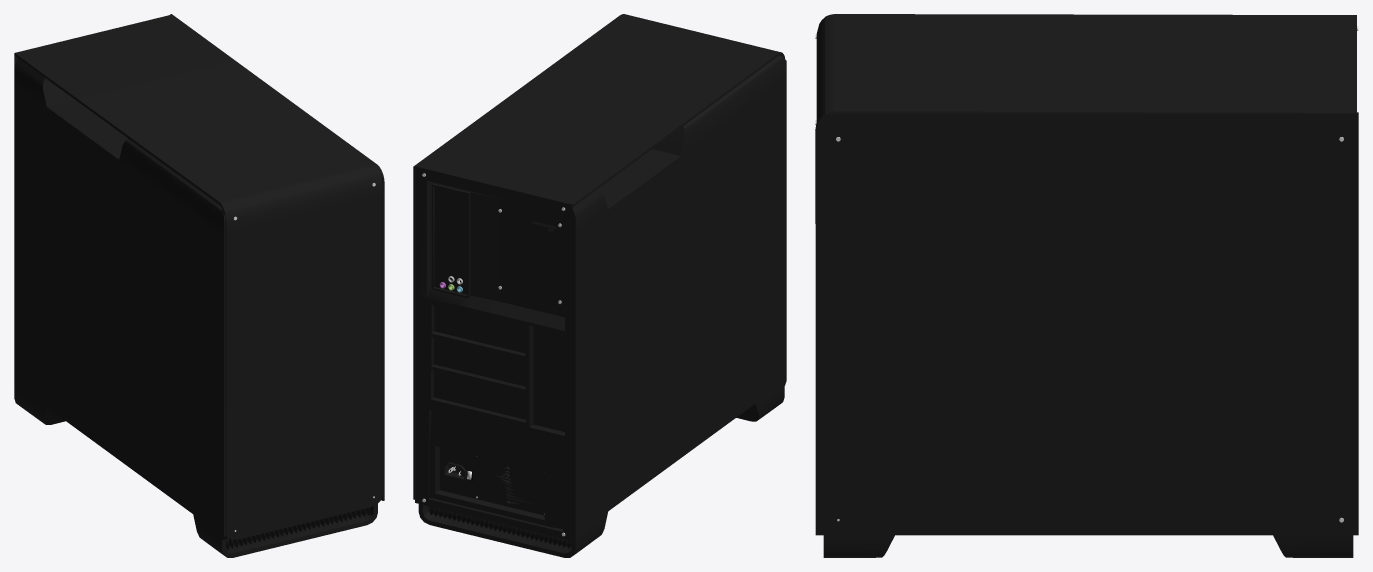
Rendered from Computer Case .fbx.
3 renders of one model, left to right at view 1: azimuth 30°, elevation 25°; view 2: azimuth 150°, elevation 25°; view 3: azimuth 270°, elevation 25°, orthographic. The views are drawn at different scales.
Visible parts, largest first — view 1: PanelFrontal.001, Interior/Lateral, Tapa lateral, Rejilla 1; view 2: Interior/Lateral, PanelFrontal.002, PanelFrontal.001, Tapa lateral, Rejilla 2; view 3: Tapa lateral, PanelFrontal.001, Interior/Lateral.
Boxes of the visible parts, x1,y1,x2,y2 form: PanelFrontal.001: [14, 15, 382, 539]; Interior/Lateral: [14, 58, 377, 557]; Tapa lateral: [170, 14, 384, 500]; Rejilla 1: [226, 507, 369, 549]; Interior/Lateral: [418, 55, 786, 557]; PanelFrontal.002: [415, 166, 572, 541]; PanelFrontal.001: [415, 14, 784, 207]; Tapa lateral: [413, 15, 619, 499]; Rejilla 2: [428, 501, 571, 548]; Tapa lateral: [815, 112, 1358, 535]; PanelFrontal.001: [816, 14, 1356, 122]; Interior/Lateral: [823, 535, 1353, 557].
Size of the model in its own units: 189 by 401 by 436.
12 materials, 1 textured.
